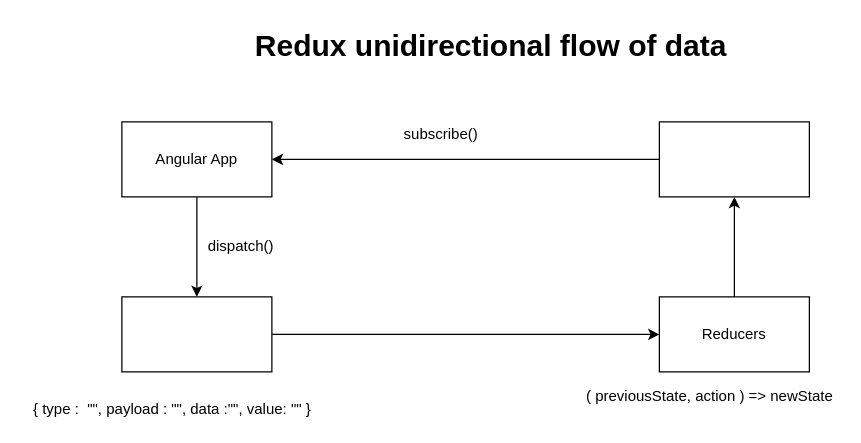
This 861x443 diagram has some shape labels left out. The box of each missing label's shape, as (x1, y1, x2, y2) in pixels:
Actions: (121, 296, 272, 372)
Store <STATE>: (658, 121, 809, 197)
